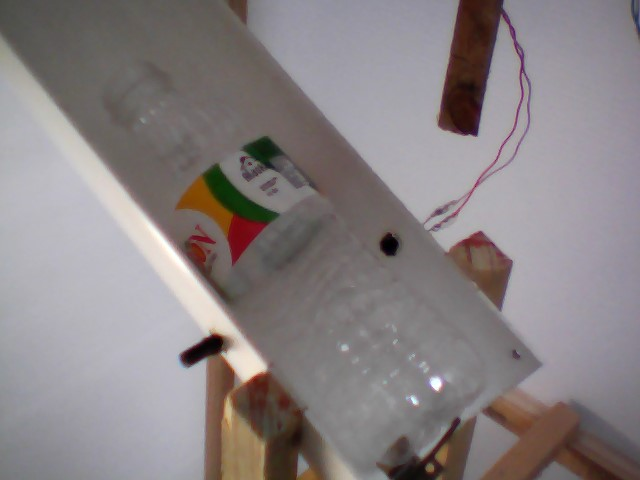plastico: (102, 55, 493, 480)
